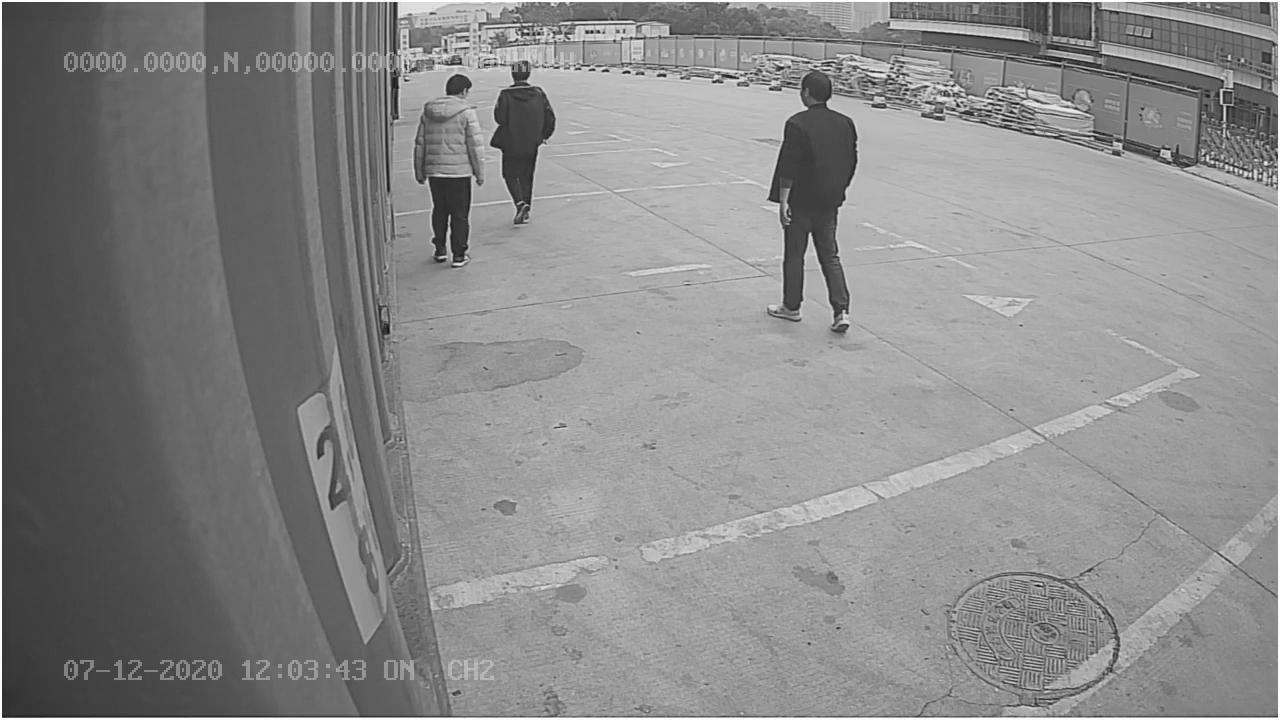person: (766, 71, 859, 337)
